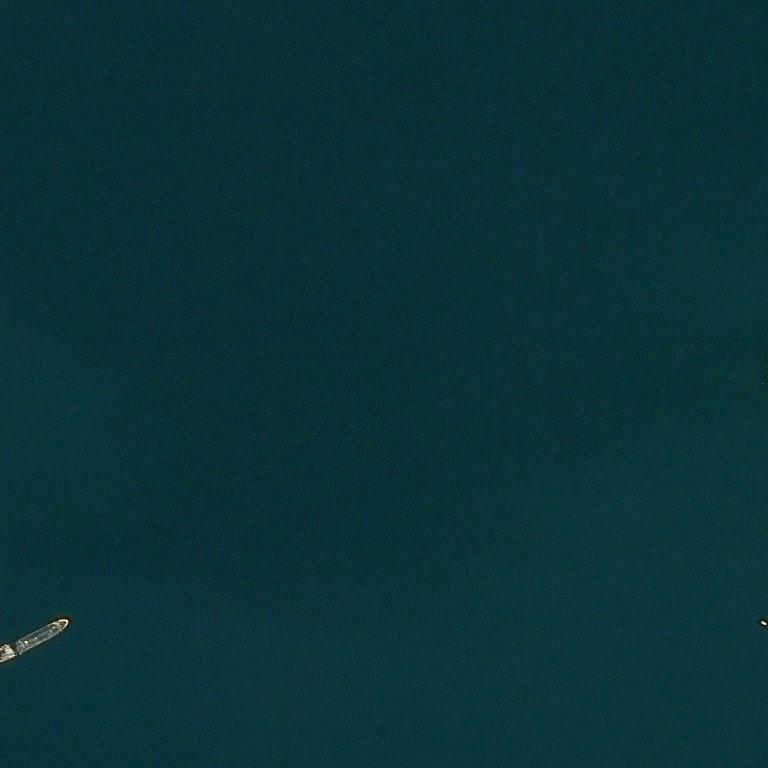ship: (0, 615, 71, 665), (66, 618, 70, 623), (5, 659, 8, 662), (1, 644, 3, 647), (765, 624, 767, 625), (763, 620, 764, 622), (764, 611, 764, 618), (762, 622, 762, 624)
